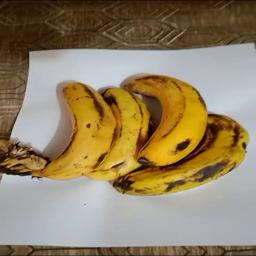Banana Semifresh: (124, 71, 205, 168), (55, 77, 112, 195), (97, 80, 148, 188), (117, 149, 228, 194), (208, 98, 248, 182)
